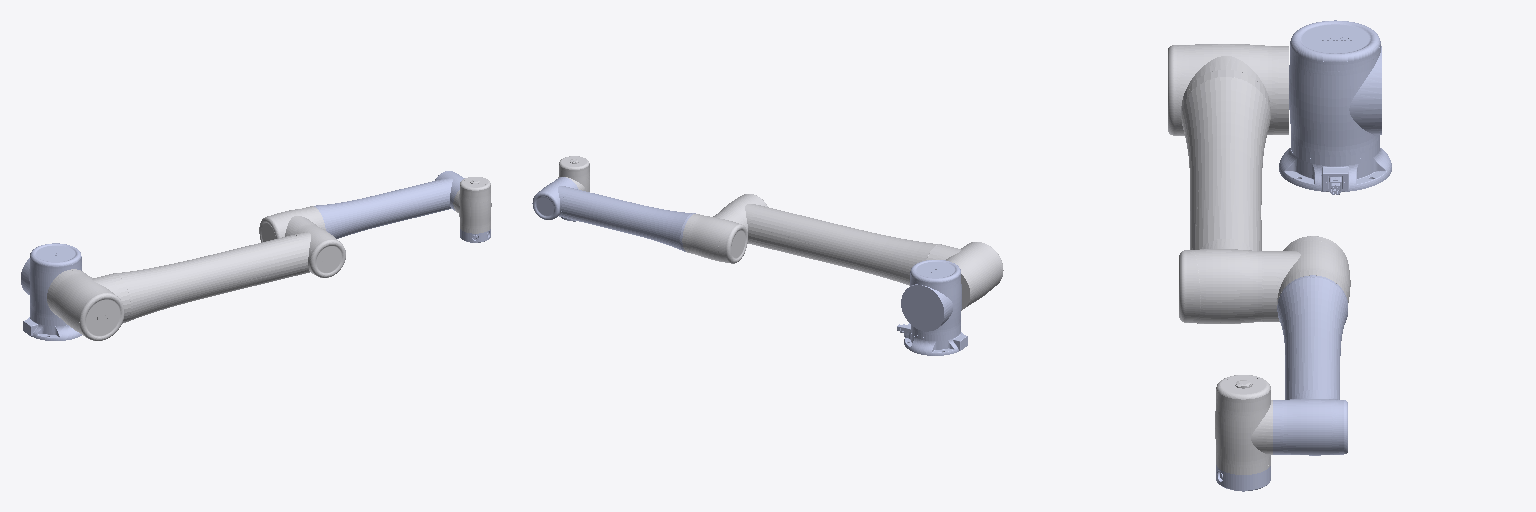
The robot description file, URDF, robot "jaka_a12":
<?xml version="1.0" encoding="utf-8"?>
<!-- This URDF was automatically created by SolidWorks to URDF Exporter! Originally created by [author] ([email redacted]) 
     Commit Version: 1.6.0-4-g7f85cfe  Build Version: 1.6.7995.38578
     For more information, please see http://wiki.ros.org/sw_urdf_exporter -->
<robot
  name="jaka_a12">
  <link name="world" />
  
  <link
    name="base_link">
    <inertial>
      <origin
        xyz="-2.4905E-05 2.3656E-05 0.017516"
        rpy="0 0 0" />
      <mass
        value="0.84938" />
      <inertia
        ixx="0.0015415"
        ixy="5.7709E-08"
        ixz="-1.6024E-07"
        iyy="0.0018861"
        iyz="2.6195E-07"
        izz="0.0032224" />
    </inertial>
    <visual>
      <origin
        xyz="0 0 0"
        rpy="0 0 0" />
      <geometry>
        <mesh
          filename="package://jaka_description/meshes/jaka_a12_meshes/base_link.STL" />
      </geometry>
      <material
        name="">
        <color
          rgba="0.79216 0.81961 0.93333 1" />
      </material>
    </visual>
    <collision>
      <origin
        xyz="0 0 0"
        rpy="0 0 0" />
      <geometry>
        <mesh
          filename="package://jaka_description/meshes/jaka_a12_meshes/base_link.STL" />
      </geometry>
    </collision>
  </link>
  <link
    name="J1">
    <inertial>
      <origin
        xyz="-6.0416E-08 0.0029272 -0.004247"
        rpy="0 0 0" />
      <mass
        value="3.7579" />
      <inertia
        ixx="0.01765"
        ixy="-2.5806E-07"
        ixz="1.3081E-07"
        iyy="0.017355"
        iyz="-3.4234E-05"
        izz="0.011502" />
    </inertial>
    <visual>
      <origin
        xyz="0 0 0"
        rpy="0 0 0" />
      <geometry>
        <mesh
          filename="package://jaka_description/meshes/jaka_a12_meshes/J1.STL" />
      </geometry>
      <material
        name="">
        <color
          rgba="0.79216 0.81961 0.93333 1" />
      </material>
    </visual>
    <collision>
      <origin
        xyz="0 0 0"
        rpy="0 0 0" />
      <geometry>
        <mesh
          filename="package://jaka_description/meshes/jaka_a12_meshes/J1.STL" />
      </geometry>
    </collision>
  </link>
  <joint
    name="joint_1"
    type="revolute">
    <origin
      xyz="-9.3823E-05 0 0.14265"
      rpy="0 0 0" />
    <parent
      link="base_link" />
    <child
      link="J1" />
    <axis
      xyz="0 0 1" />
    <limit
      lower="-6.28"
      upper="6.28"
      effort="2000"
      velocity="1.57" />
  </joint>
  <link
    name="J2">
    <inertial>
      <origin
        xyz="0.32342 7.7417E-08 0.1801"
        rpy="0 0 0" />
      <mass
        value="13.37" />
      <inertia
        ixx="0.038258"
        ixy="3.4816E-08"
        ixz="-0.0030725"
        iyy="1.0882"
        iyz="5.5423E-08"
        izz="1.0803" />
    </inertial>
    <visual>
      <origin
        xyz="0 0 0"
        rpy="0 0 0" />
      <geometry>
        <mesh
          filename="package://jaka_description/meshes/jaka_a12_meshes/J2.STL" />
      </geometry>
      <material
        name="">
        <color
          rgba="0.86667 0.86667 0.8902 1" />
      </material>
    </visual>
    <collision>
      <origin
        xyz="0 0 0"
        rpy="0 0 0" />
      <geometry>
        <mesh
          filename="package://jaka_description/meshes/jaka_a12_meshes/J2.STL" />
      </geometry>
    </collision>
  </link>
  <joint
    name="joint_2"
    type="revolute">
    <origin
      xyz="0 0 0"
      rpy="1.5708 0 0" />
    <parent
      link="J1" />
    <child
      link="J2" />
    <axis
      xyz="0 0 1" />
    <limit
      lower="-1.48"
      upper="4.62"
      effort="8000"
      velocity="1.57" />
  </joint>
  <link
    name="J3">
    <inertial>
      <origin
        xyz="-4.2655E-07 -0.0024273 0.002914"
        rpy="0 0 0" />
      <mass
        value="1.9435" />
      <inertia
        ixx="0.0057394"
        ixy="3.386E-10"
        ixz="7.7883E-08"
        iyy="0.0038913"
        iyz="3.3725E-06"
        izz="0.0056521" />
    </inertial>
    <visual>
      <origin
        xyz="0 0 0"
        rpy="0 0 0" />
      <geometry>
        <mesh
          filename="package://jaka_description/meshes/jaka_a12_meshes/J3.STL" />
      </geometry>
      <material
        name="">
        <color
          rgba="0.86667 0.86667 0.8902 1" />
      </material>
    </visual>
    <collision>
      <origin
        xyz="0 0 0"
        rpy="0 0 0" />
      <geometry>
        <mesh
          filename="package://jaka_description/meshes/jaka_a12_meshes/J3.STL" />
      </geometry>
    </collision>
  </link>
  <joint
    name="joint_3"
    type="revolute">
    <origin
      xyz="0.77 0 0.0375"
      rpy="0 0 1.5708" />
    <parent
      link="J2" />
    <child
      link="J3" />
    <axis
      xyz="0 0 1" />
    <limit
      lower="-3.05"
      upper="3.05"
      effort="8000"
      velocity="1.57" />
  </joint>
  <link
    name="J4">
    <inertial>
      <origin
        xyz="3.1406E-08 -0.00097336 -0.21333"
        rpy="0 0 0" />
      <mass
        value="3.903" />
      <inertia
        ixx="0.10135"
        ixy="4.9565E-08"
        ixz="-9.9161E-09"
        iyy="0.10077"
        iyz="0.00080984"
        izz="0.0051085" />
    </inertial>
    <visual>
      <origin
        xyz="0 0 0"
        rpy="0 0 0" />
      <geometry>
        <mesh
          filename="package://jaka_description/meshes/jaka_a12_meshes/J4.STL" />
      </geometry>
      <material
        name="">
        <color
          rgba="0.79216 0.81961 0.93333 1" />
      </material>
    </visual>
    <collision>
      <origin
        xyz="0 0 0"
        rpy="0 0 0" />
      <geometry>
        <mesh
          filename="package://jaka_description/meshes/jaka_a12_meshes/J4.STL" />
      </geometry>
    </collision>
  </link>
  <joint
    name="joint_4"
    type="revolute">
    <origin
      xyz="0 -0.5515 0"
      rpy="-1.5708 0 -3.1416" />
    <parent
      link="J3" />
    <child
      link="J4" />
    <axis
      xyz="0 0 1" />
    <limit
      lower="-1.48"
      upper="4.62"
      effort="2000"
      velocity="1.57" />
  </joint>
  <link
    name="J5">
    <inertial>
      <origin
        xyz="1.1337E-07 0.0049095 -0.0024985"
        rpy="0 0 0" />
      <mass
        value="1.0253" />
      <inertia
        ixx="0.0022543"
        ixy="1.879E-09"
        ixz="1.7943E-08"
        iyy="0.0011832"
        iyz="-1.3434E-05"
        izz="0.0022184" />
    </inertial>
    <visual>
      <origin
        xyz="0 0 0"
        rpy="0 0 0" />
      <geometry>
        <mesh
          filename="package://jaka_description/meshes/jaka_a12_meshes/J5.STL" />
      </geometry>
      <material
        name="">
        <color
          rgba="0.86667 0.86667 0.8902 1" />
      </material>
    </visual>
    <collision>
      <origin
        xyz="0 0 0"
        rpy="0 0 0" />
      <geometry>
        <mesh
          filename="package://jaka_description/meshes/jaka_a12_meshes/J5.STL" />
      </geometry>
    </collision>
  </link>
  <joint
    name="joint_5"
    type="revolute">
    <origin
      xyz="0 -0.115 0"
      rpy="-1.5708 -1.5708 3.1416" />
    <parent
      link="J4" />
    <child
      link="J5" />
    <axis
      xyz="0 0 1" />
    <limit
      lower="-6.28"
      upper="6.28"
      effort="3000"
      velocity="1.57" />
  </joint>
  <link
    name="J6">
    <inertial>
      <origin
        xyz="2.0266E-05 8.0694E-05 -0.020571"
        rpy="0 0 0" />
      <mass
        value="0.2135" />
      <inertia
        ixx="0.00012519"
        ixy="-7.5877E-08"
        ixz="-6.9264E-08"
        iyy="0.00012618"
        iyz="1.5367E-07"
        izz="0.00021163" />
    </inertial>
    <visual>
      <origin
        xyz="0 0 0"
        rpy="0 0 0" />
      <geometry>
        <mesh
          filename="package://jaka_description/meshes/jaka_a12_meshes/J6.STL" />
      </geometry>
      <material
        name="">
        <color
          rgba="0.79216 0.81961 0.93333 1" />
      </material>
    </visual>
    <collision>
      <origin
        xyz="0 0 0"
        rpy="0 0 0" />
      <geometry>
        <mesh
          filename="package://jaka_description/meshes/jaka_a12_meshes/J6.STL" />
      </geometry>
    </collision>
  </link>
  <joint
    name="joint_6"
    type="revolute">
    <origin
      xyz="0 -0.1035 0"
      rpy="1.5708 0 0" />
    <parent
      link="J5" />
    <child
      link="J6" />
    <axis
      xyz="0 0 1" />
    <limit
      lower="-6.28"
      upper="6.28"
      effort="1000"
      velocity="1.57" />
  </joint>
  <!-- JOINT -->
  <joint name="fixed" type="fixed">
       <parent link="world"/>
       <child link="base_link"/>
  </joint>

  <transmission name="trans_joint_1">
    <type>transmission_interface/SimpleTransmission</type>
    <joint name="joint_1">
      <hardwareInterface>hardware_interface/PositionJointInterface</hardwareInterface>
    </joint>
    <actuator name="joint_1_motor">
      <hardwareInterface>hardware_interface/PositionJointInterface</hardwareInterface>
      <mechanicalReduction>1</mechanicalReduction>
    </actuator>
  </transmission>
  <transmission name="trans_joint_2">
    <type>transmission_interface/SimpleTransmission</type>
    <joint name="joint_2">
      <hardwareInterface>hardware_interface/PositionJointInterface</hardwareInterface>
    </joint>
    <actuator name="joint_2_motor">
      <hardwareInterface>hardware_interface/PositionJointInterface</hardwareInterface>
      <mechanicalReduction>1</mechanicalReduction>
    </actuator>
  </transmission>
  <transmission name="trans_joint_3">
    <type>transmission_interface/SimpleTransmission</type>
    <joint name="joint_3">
      <hardwareInterface>hardware_interface/PositionJointInterface</hardwareInterface>
    </joint>
    <actuator name="joint_3_motor">
      <hardwareInterface>hardware_interface/PositionJointInterface</hardwareInterface>
      <mechanicalReduction>1</mechanicalReduction>
    </actuator>
  </transmission>
  <transmission name="trans_joint_4">
    <type>transmission_interface/SimpleTransmission</type>
    <joint name="joint_4">
      <hardwareInterface>hardware_interface/PositionJointInterface</hardwareInterface>
    </joint>
    <actuator name="joint_4_motor">
      <hardwareInterface>hardware_interface/PositionJointInterface</hardwareInterface>
      <mechanicalReduction>1</mechanicalReduction>
    </actuator>
  </transmission>
  <transmission name="trans_joint_5">
    <type>transmission_interface/SimpleTransmission</type>
    <joint name="joint_5">
      <hardwareInterface>hardware_interface/PositionJointInterface</hardwareInterface>
    </joint>
    <actuator name="joint_5_motor">
      <hardwareInterface>hardware_interface/PositionJointInterface</hardwareInterface>
      <mechanicalReduction>1</mechanicalReduction>
    </actuator>
  </transmission>
  <transmission name="trans_joint_6">
    <type>transmission_interface/SimpleTransmission</type>
    <joint name="joint_6">
      <hardwareInterface>hardware_interface/PositionJointInterface</hardwareInterface>
    </joint>
    <actuator name="joint_6_motor">
      <hardwareInterface>hardware_interface/PositionJointInterface</hardwareInterface>
      <mechanicalReduction>1</mechanicalReduction>
    </actuator>
  </transmission>
  <gazebo>
    <plugin name="gazebo_ros_control" filename="libgazebo_ros_control.so">
      <robotNamespace>/</robotNamespace>
    </plugin>
  </gazebo>
</robot>

--- Facts derived from the render (not from the file) ---
Views: 3 orthographic renders of the robot side by side, from view 1: azimuth 30°, elevation 25°; view 2: azimuth 150°, elevation 25°; view 3: azimuth 270°, elevation 25°.
Robot: jaka_a12 — 8 links, 7 joints (6 revolute, 1 fixed); root link world; default pose: every joint at zero.
Visible links, largest first — view 1: J2, J4, J1, J5, J3, base_link; view 2: J2, J4, J1, J3, base_link, J5; view 3: J2, J1, J4, J5, base_link, J3, J6.
Boxes of the visible links, box(x1,y1,x2,y2) form: J2: box(47, 221, 345, 340); J4: box(314, 171, 464, 238); J1: box(21, 243, 81, 326); J5: box(453, 177, 491, 233); J3: box(259, 206, 325, 242); base_link: box(23, 317, 81, 340); J2: box(718, 194, 1003, 310); J4: box(532, 177, 695, 251); J1: box(901, 260, 961, 340); J3: box(682, 213, 747, 263); base_link: box(897, 323, 967, 355); J5: box(558, 156, 589, 191); J2: box(1168, 44, 1288, 323); J1: box(1289, 20, 1381, 165); J4: box(1273, 275, 1347, 455); J5: box(1215, 375, 1272, 474); base_link: box(1279, 148, 1391, 194); J3: box(1276, 236, 1350, 321); J6: box(1216, 465, 1270, 491).
Bounding box of the posed robot: 1.47 × 0.3721 × 0.2391 m (x, y, z).
7 mesh visuals loaded from 7 distinct referenced files (7 binary STL).
